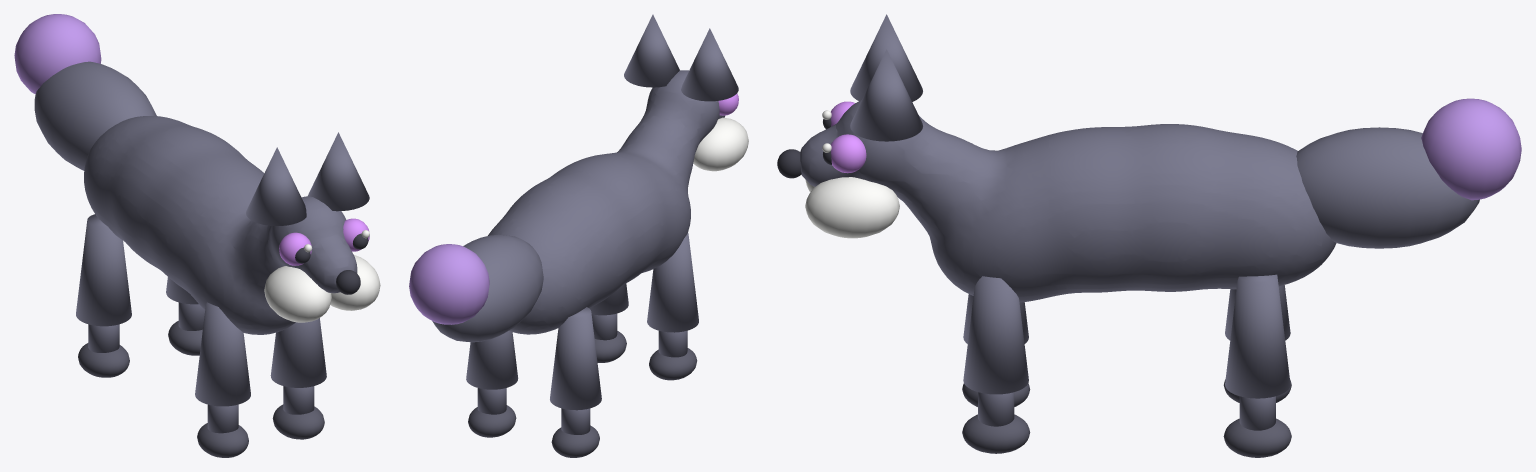
Rendered from Shadow Wolf.fbx.
The picture shows the model from 3 angles, left to right: view 1: azimuth 30°, elevation 25°; view 2: azimuth 150°, elevation 25°; view 3: azimuth 270°, elevation 25°; orthographic projection. The views are drawn at different scales.
Parts seen in each view (by area): view 1: Shadow Wolf; view 2: Shadow Wolf; view 3: Shadow Wolf.
Boxes of the visible parts, x1,y1,x2,y2 form: Shadow Wolf: [14, 14, 380, 457]; Shadow Wolf: [409, 14, 748, 457]; Shadow Wolf: [777, 14, 1521, 457].
Size of the model in its own units: 154 by 360 by 612.
